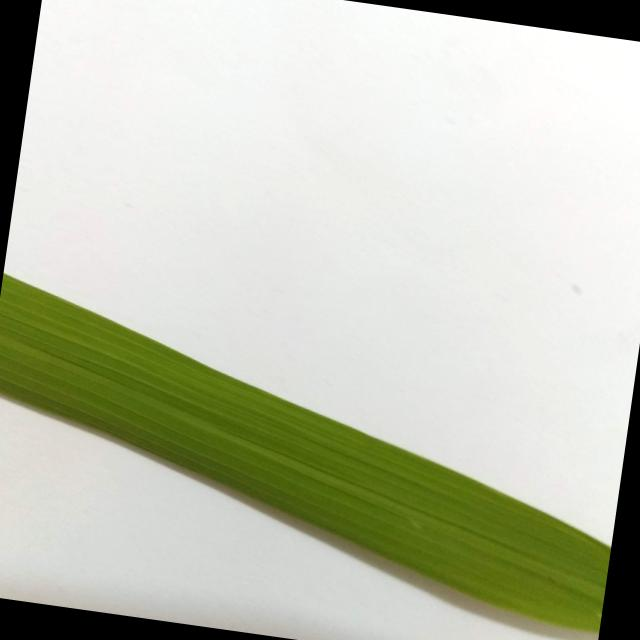Rice_Healthy: (0, 274, 611, 633)
